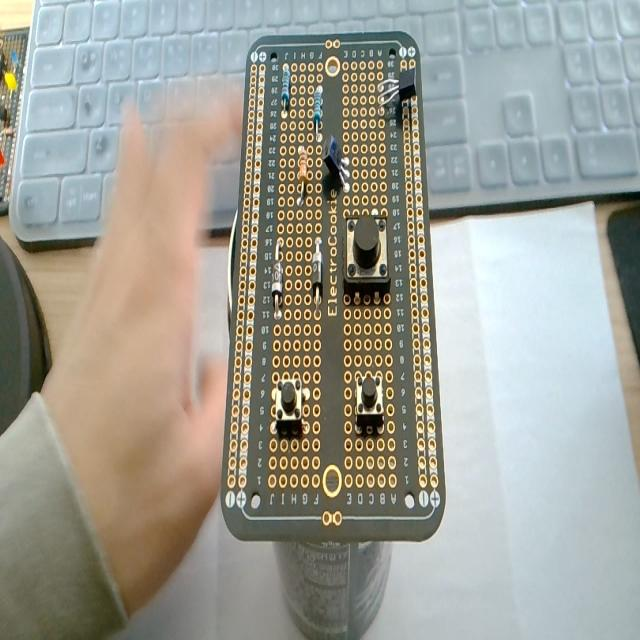diode: (271, 240, 284, 320), (312, 235, 324, 312)
resistor: (297, 146, 311, 206), (312, 85, 323, 138), (281, 63, 291, 108)
switch: (342, 212, 392, 303), (274, 375, 306, 434), (354, 373, 383, 433)
transistor: (377, 70, 418, 122), (323, 138, 350, 196)
